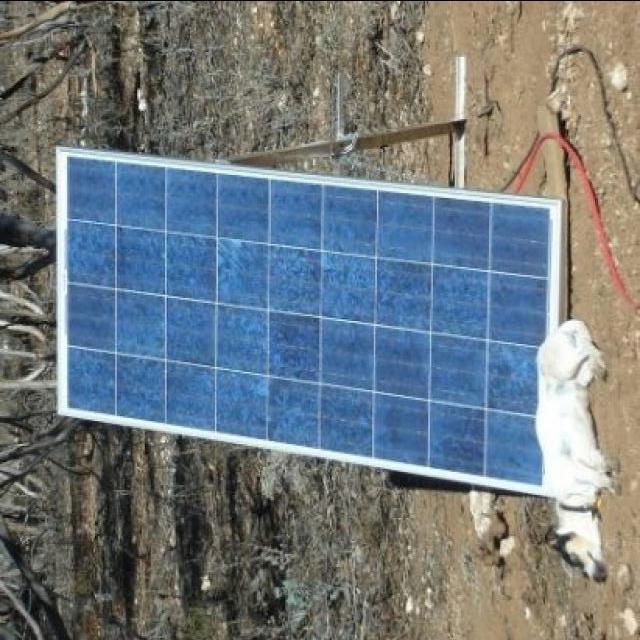no faulty: (55, 148, 537, 485)
